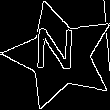N_S: (38, 29, 82, 82)
